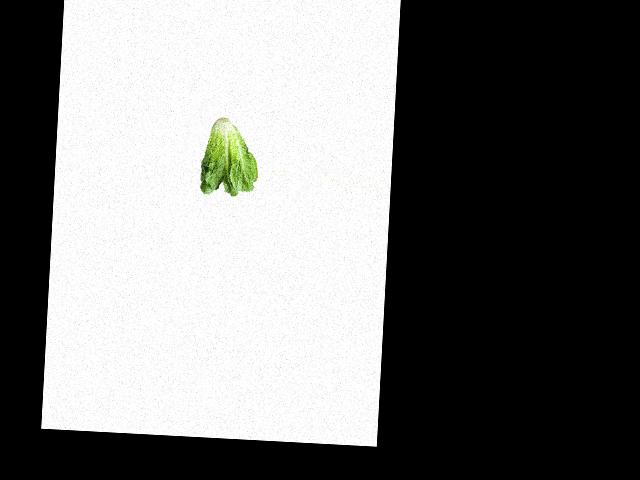lettuce: (198, 114, 260, 197)
